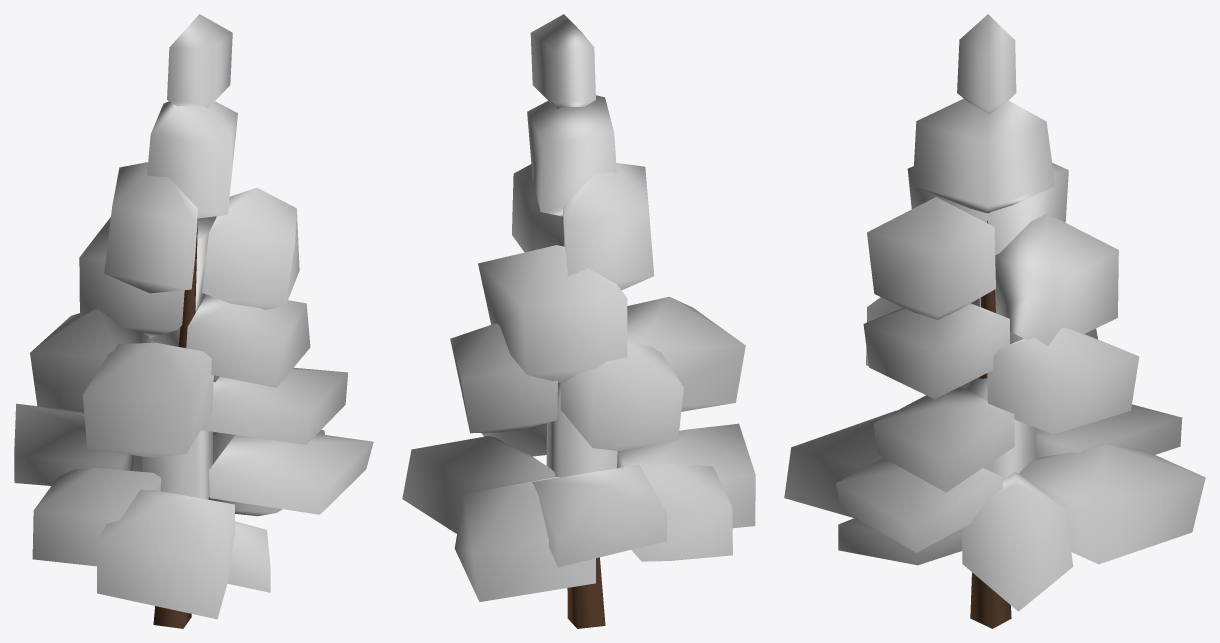
The picture shows the model from 3 angles, left to right: view 1: azimuth 30°, elevation 25°; view 2: azimuth 150°, elevation 25°; view 3: azimuth 270°, elevation 25°; orthographic projection. The views are drawn at different scales.
Parts seen in each view (by area): view 1: crown, trunk; view 2: crown, trunk; view 3: crown, trunk.
Part boxes in pixels (<box>): crown: <box>14,14,373,619</box>; trunk: <box>153,218,197,628</box>; crown: <box>402,14,755,601</box>; trunk: <box>567,557,605,628</box>; crown: <box>784,14,1205,611</box>; trunk: <box>970,220,1011,628</box>.
Bounding box in the file's own units: 10.69 × 19.53 × 12.07.
